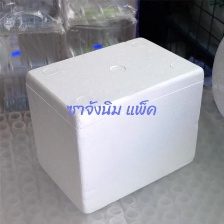foam_box: (19, 33, 207, 217)
